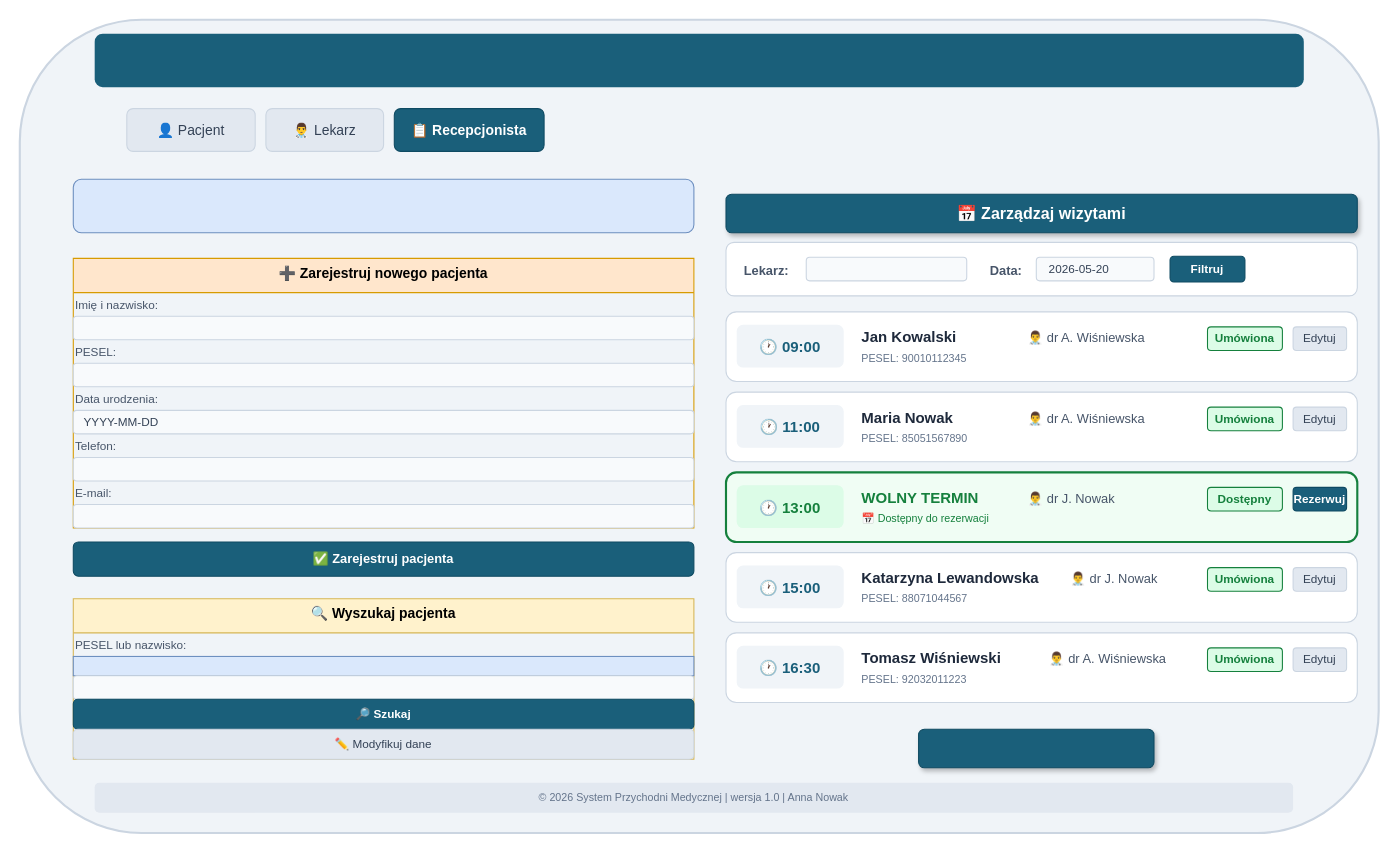
The diagram is 1397 pixels wide and 852 high, and some of its shapes have lost their labels. The centre of each missing label's shape, as x and y in pixels:
Przykład: Jan Kowalski (PESEL: 90010112345): the point at 383,665
Witaj, Anna Nowak Stanowisko: Recepcjonista | R-1234: the point at 383,205
Wszyscy lekarze ▼: the point at 886,268
➕ Dodaj nowy termin: the point at 1036,749
🩺 System Przychodni Medycznej - Recepcjonista: the point at 698,60
